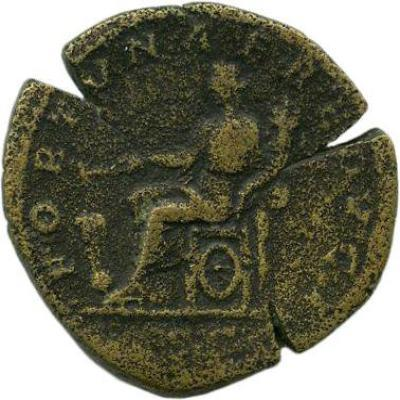numismatics: (4, 3, 396, 396)
